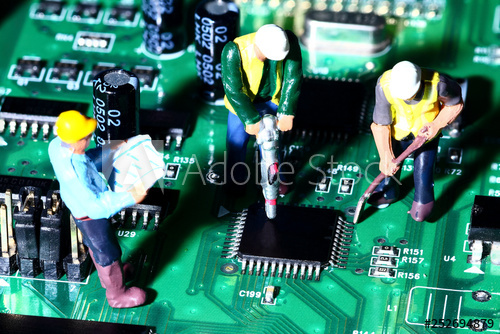capacitor: (79, 59, 150, 159), (193, 4, 240, 85)
